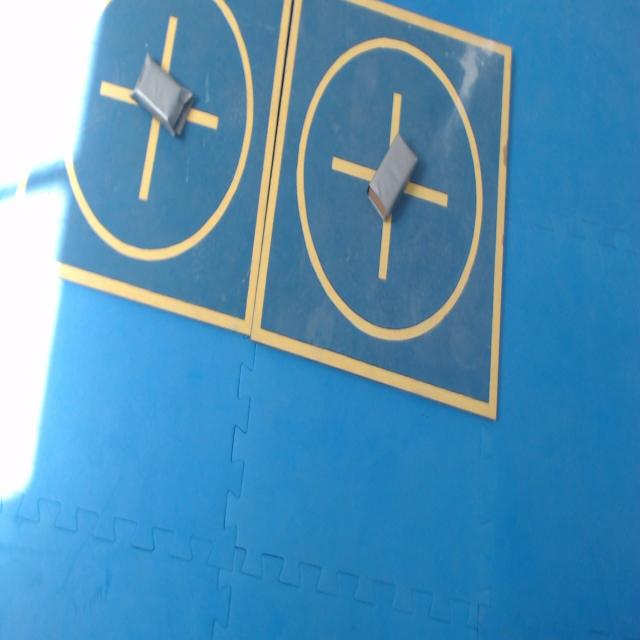direita: (368, 133, 418, 220)
esquerda: (131, 53, 193, 135)
